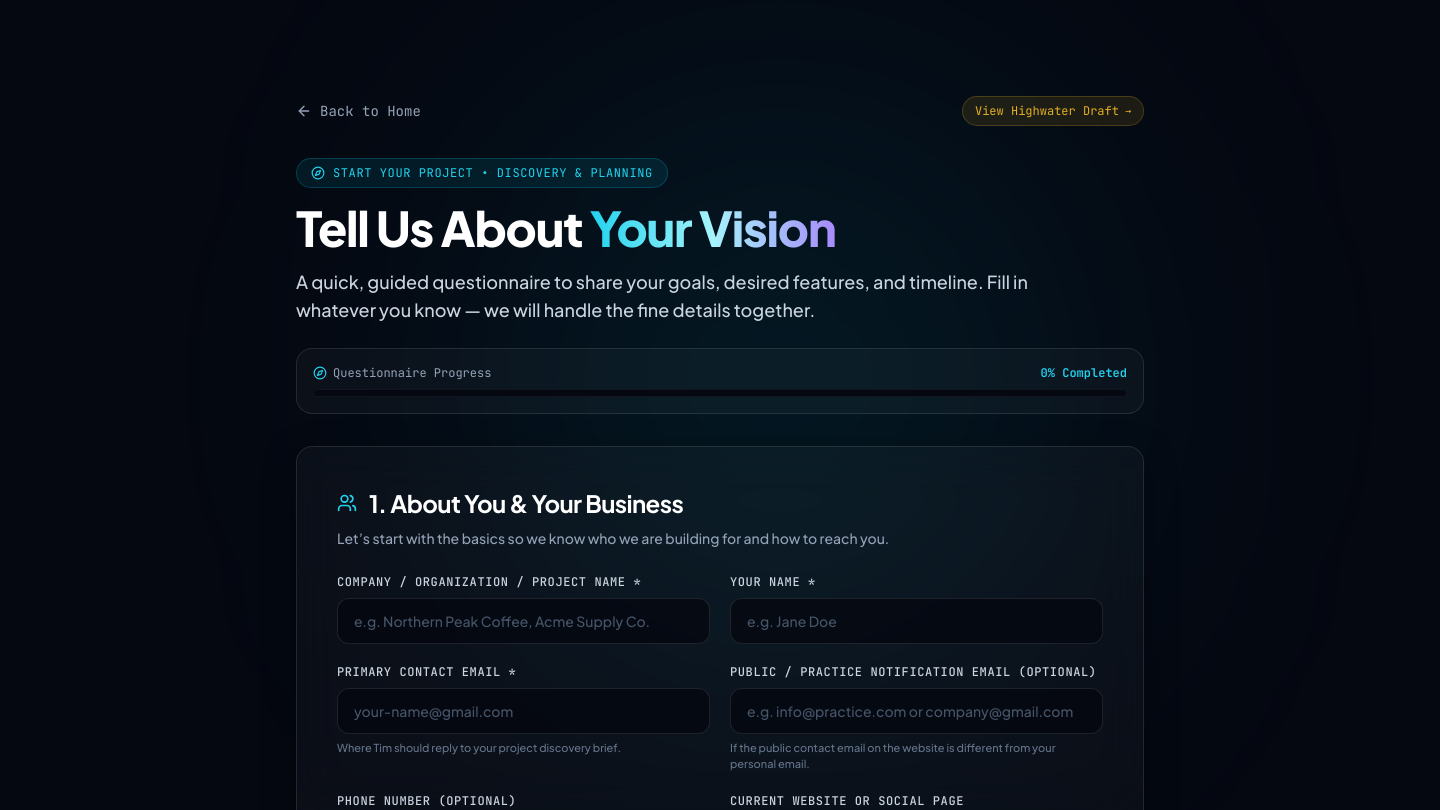
Test case: ClientIntake › resets form when Reset button is clicked
Type "Acme Woodworking" into the field labelled "Company / Organization / Project Name *" at (524, 621), box [337,598,710,644]
(page scrolled)
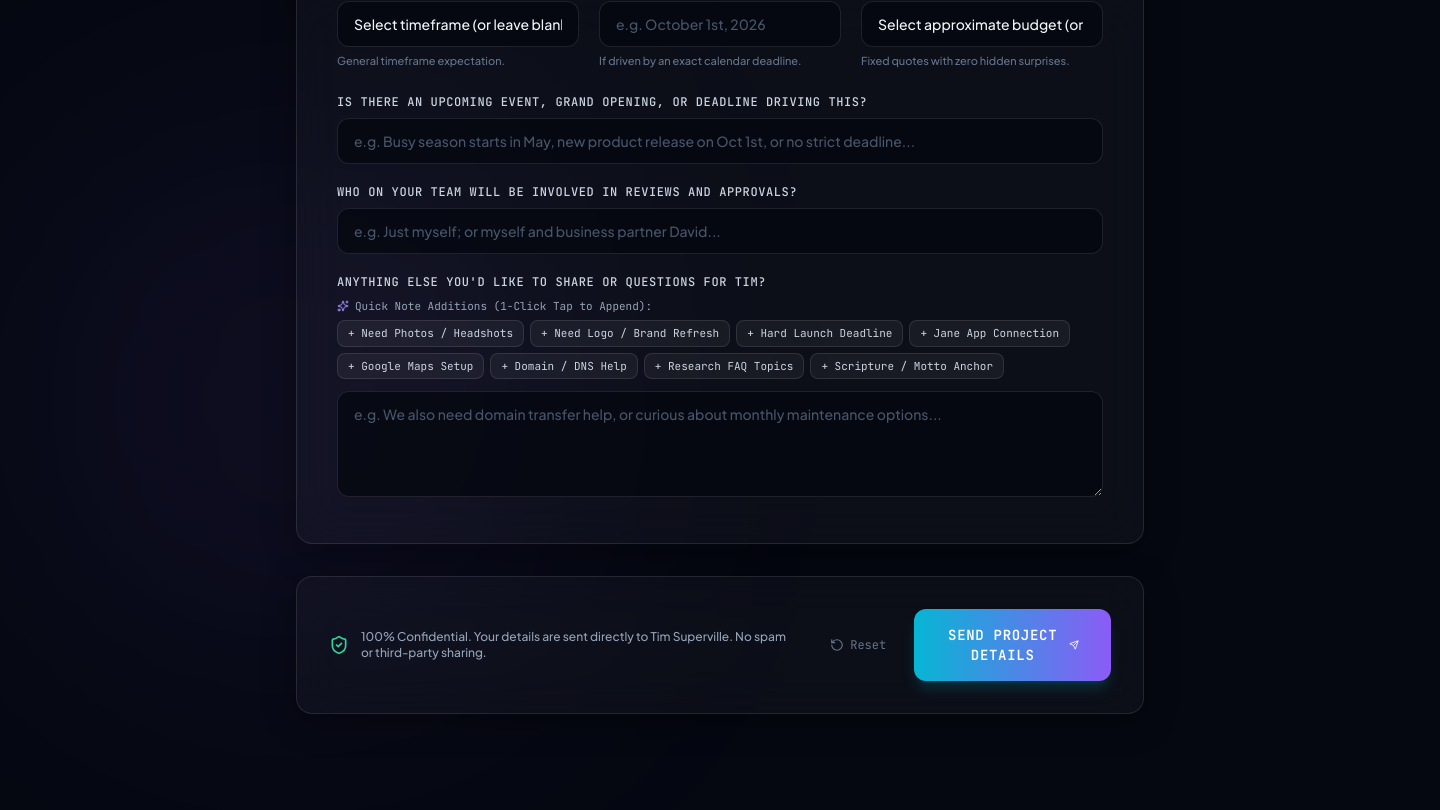
Click the button "Reset" at (858, 645), box [818,629,898,661]
(page scrolled)
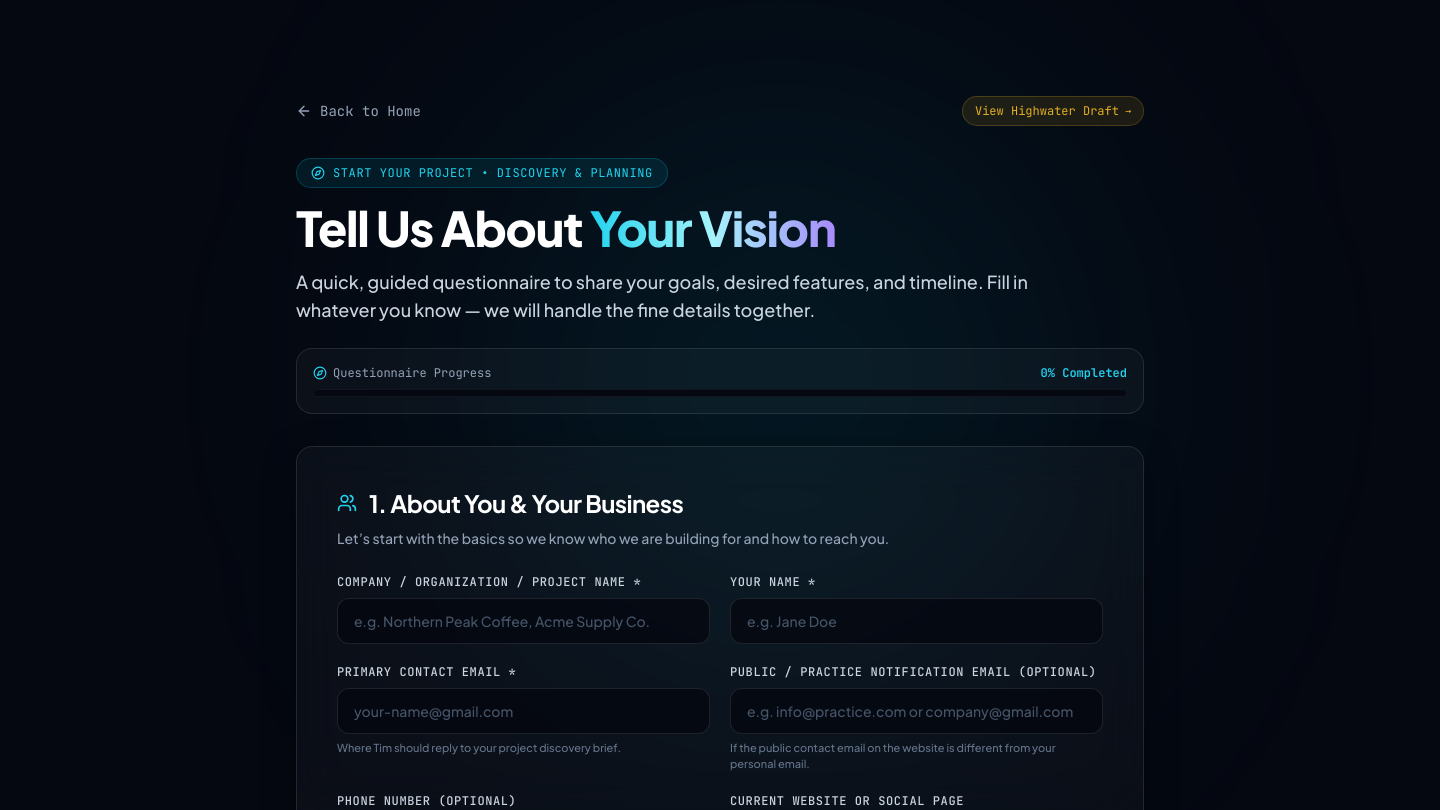
Check: the field labelled "Company / Organization / Project Name *" is empty, box [337,598,710,644]
Check: the text "0% Completed" is shown, box [1041,365,1127,381]
